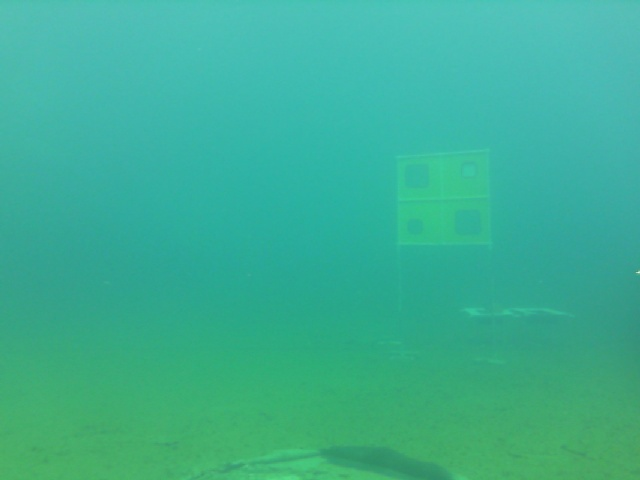bin_cover: (456, 294, 585, 360)
torpedo_cover: (457, 166, 482, 180)
torpedo_hole: (455, 211, 484, 239), (456, 162, 486, 188), (403, 167, 435, 191), (405, 216, 427, 239)
torpedo_target: (388, 151, 503, 250)
